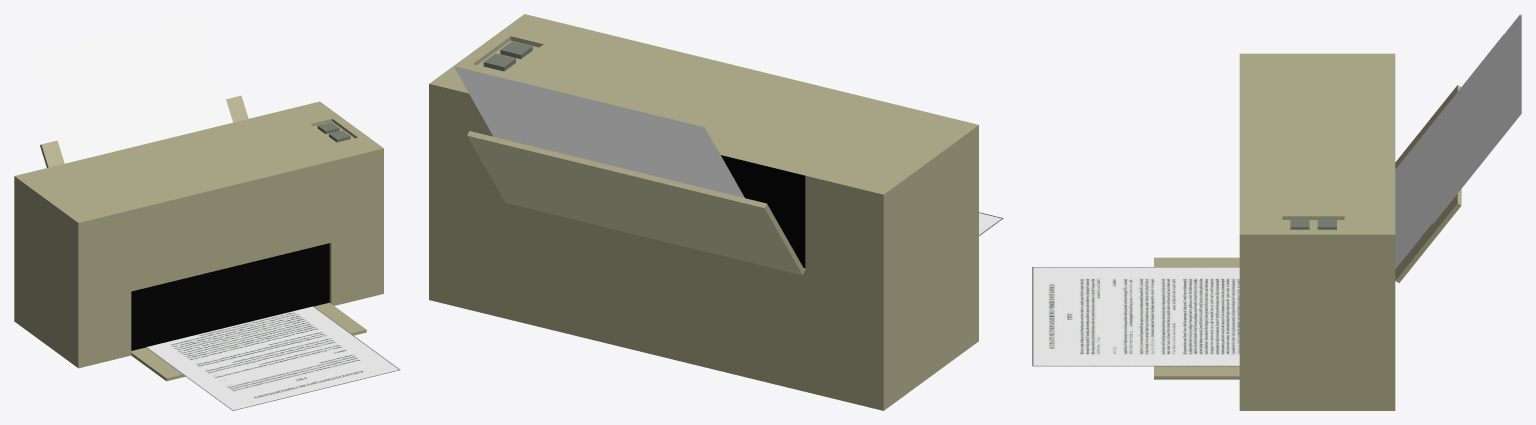
The model's file is document_printer.glb.
3 views of the same model, side by side, from view 1: azimuth 30°, elevation 25°; view 2: azimuth 150°, elevation 25°; view 3: azimuth 270°, elevation 25° (orthographic). The views are drawn at different scales.
Visible parts, largest first — view 1: Printer_2, Paper_Blank_2, Paper_Printed, Paper_Blank_1; view 2: Printer_2, Paper_Blank, Paper_Blank_1; view 3: Printer_2, Paper_Printed, Paper_Blank_2, Paper_Blank_1, Paper_Blank.
Boxes of the visible parts, x1=… form: Printer_2: x1=14, y1=95, x2=383, y2=381; Paper_Blank_2: x1=38, y1=36, x2=232, y2=163; Paper_Printed: x1=146, y1=306, x2=399, y2=410; Paper_Blank_1: x1=32, y1=14, x2=205, y2=155; Printer_2: x1=429, y1=14, x2=978, y2=410; Paper_Blank: x1=454, y1=67, x2=742, y2=197; Paper_Blank_1: x1=455, y1=66, x2=744, y2=197; Printer_2: x1=1154, y1=53, x2=1461, y2=410; Paper_Printed: x1=1032, y1=267, x2=1239, y2=366; Paper_Blank_2: x1=1395, y1=34, x2=1503, y2=268; Paper_Blank_1: x1=1396, y1=14, x2=1520, y2=268; Paper_Blank: x1=1432, y1=15, x2=1521, y2=224.
Bounding box in the file's own units: 550 × 364 × 629.
Materials: 5 (1 with a texture image).
